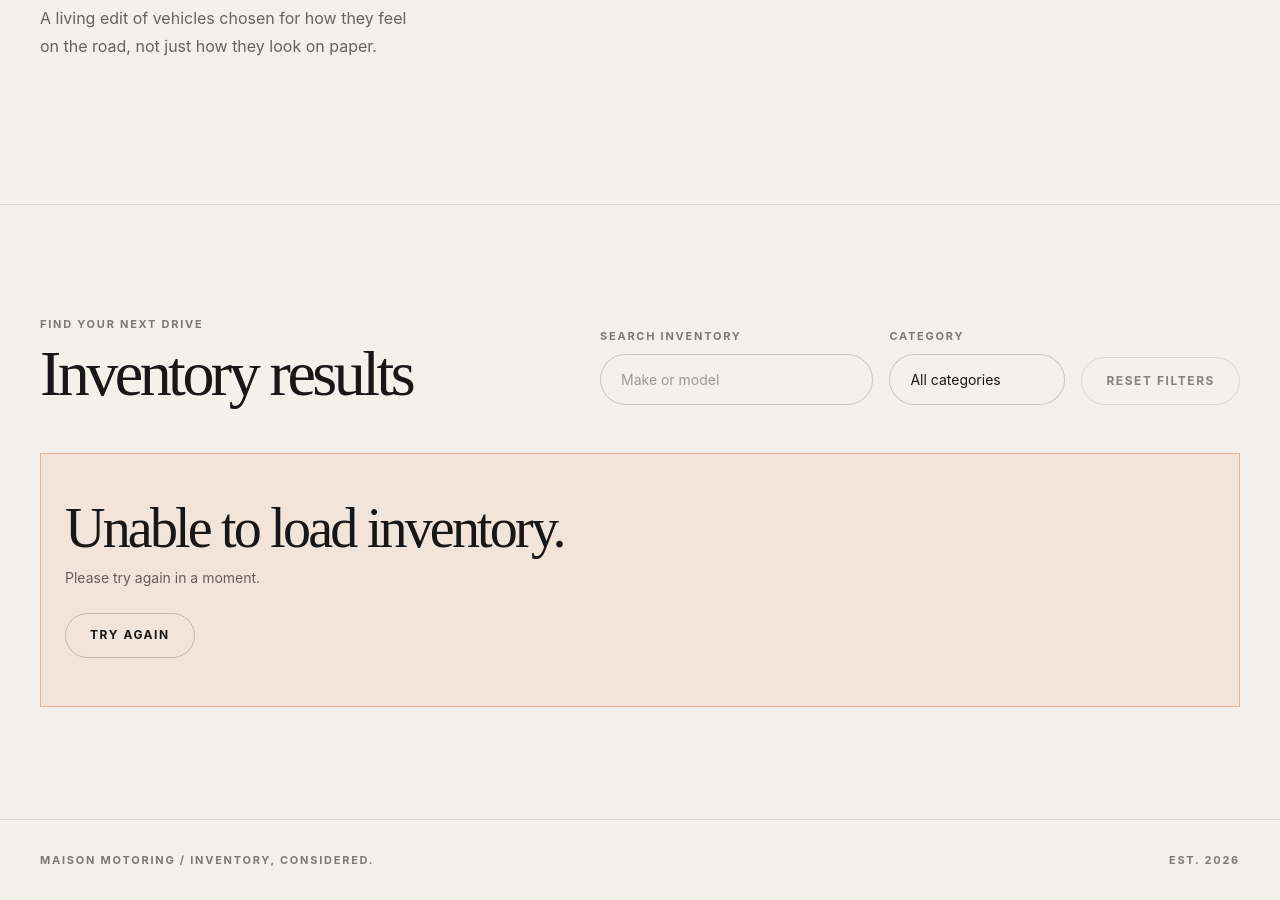
Test: /inventory vehicle inventory page › offers a retry action after an inventory request fails
(page scrolled)
Click the button "Try again".
click(130, 636)  # box [65,614,195,658]
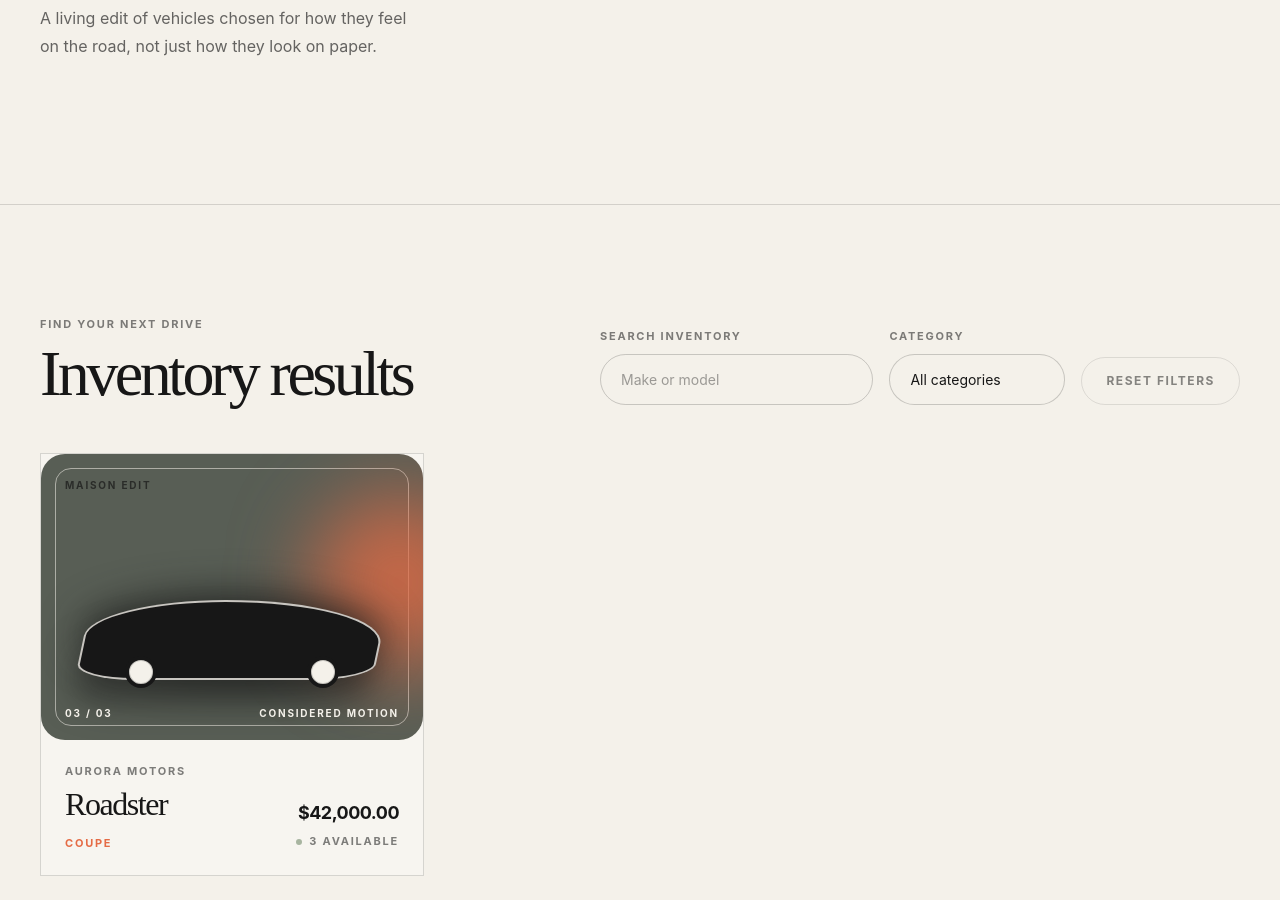
Now the text "Aurora Motors" is shown, box [65,764,186,780]
